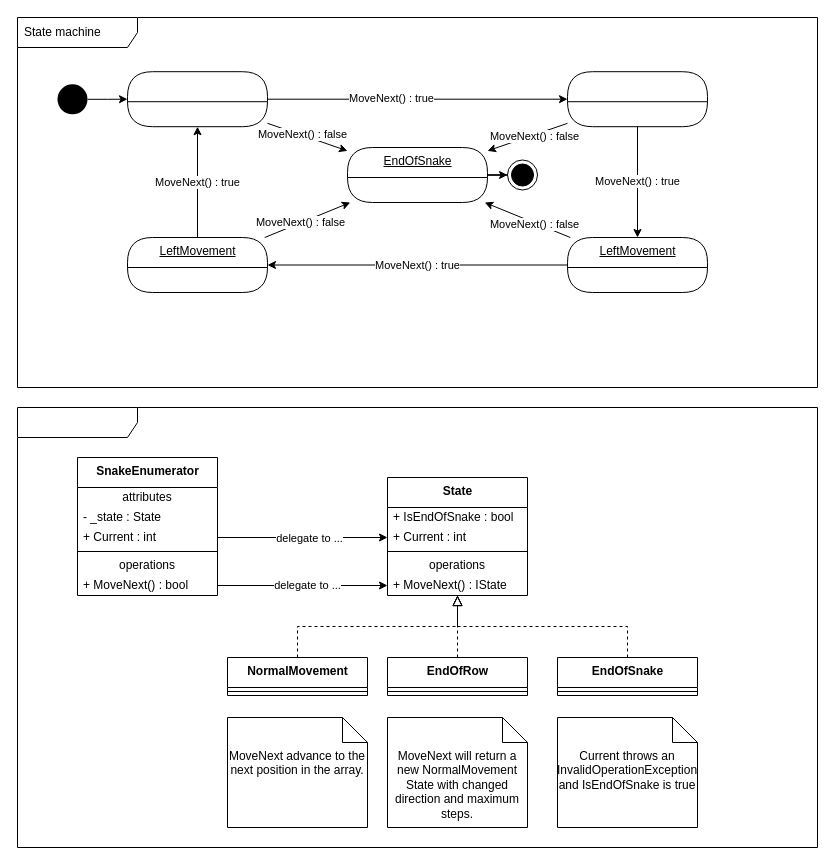
The diagram is 835 pixels wide and 865 high, and some of its shapes have lost their labels. Here are the shapes that lost their labels. From the top down, the centre of each, then its label:
At point (197, 99): "RightMovement".
At point (637, 99): "DownMovement".
At point (417, 627): "Class Diagram".
